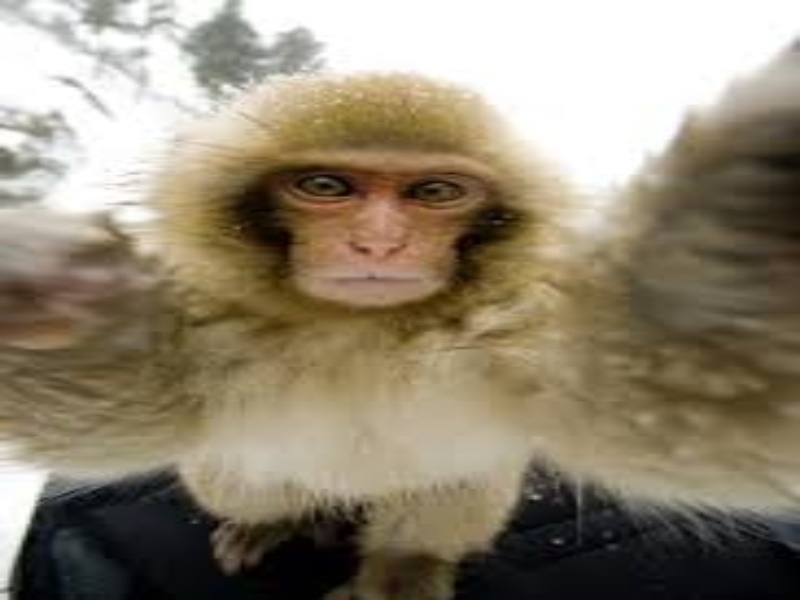monkey: (124, 66, 585, 587)
